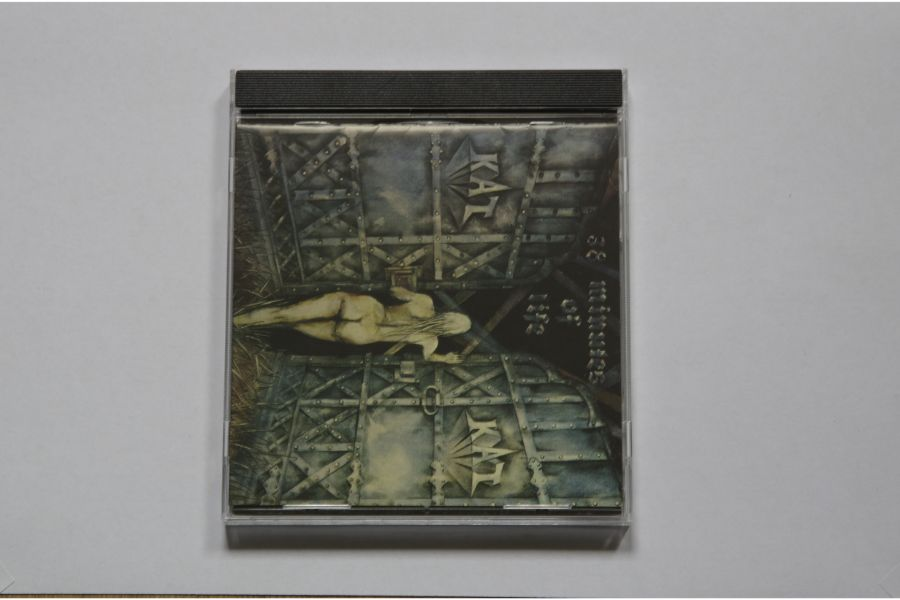album: (223, 64, 633, 529)
